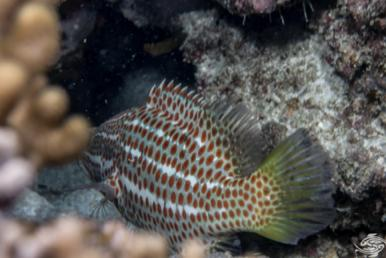Serranidae -Groupers-: (66, 72, 339, 247)
